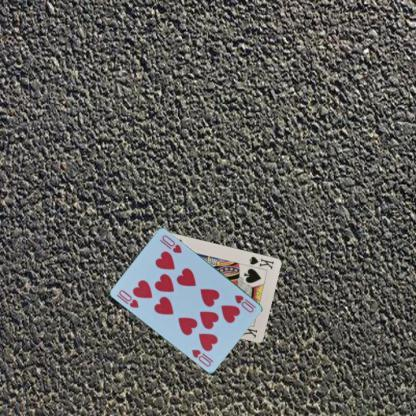10h: (233, 292, 258, 314), (117, 287, 140, 309)
Ks: (246, 254, 275, 270)
